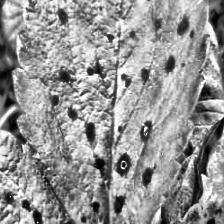Leaf Spot: (13, 0, 210, 224), (156, 45, 224, 224), (0, 128, 104, 223), (118, 190, 224, 224), (199, 111, 224, 205)
